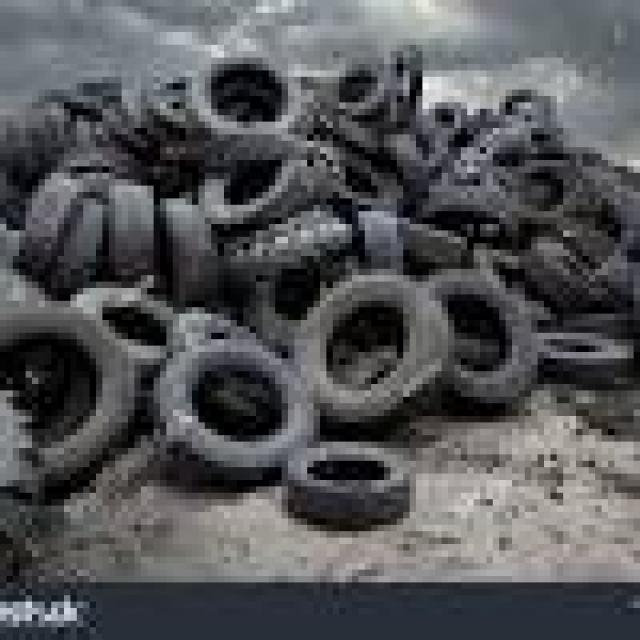Rubber -Non-Biodegradable but Recyclable-: (0, 53, 640, 556)
